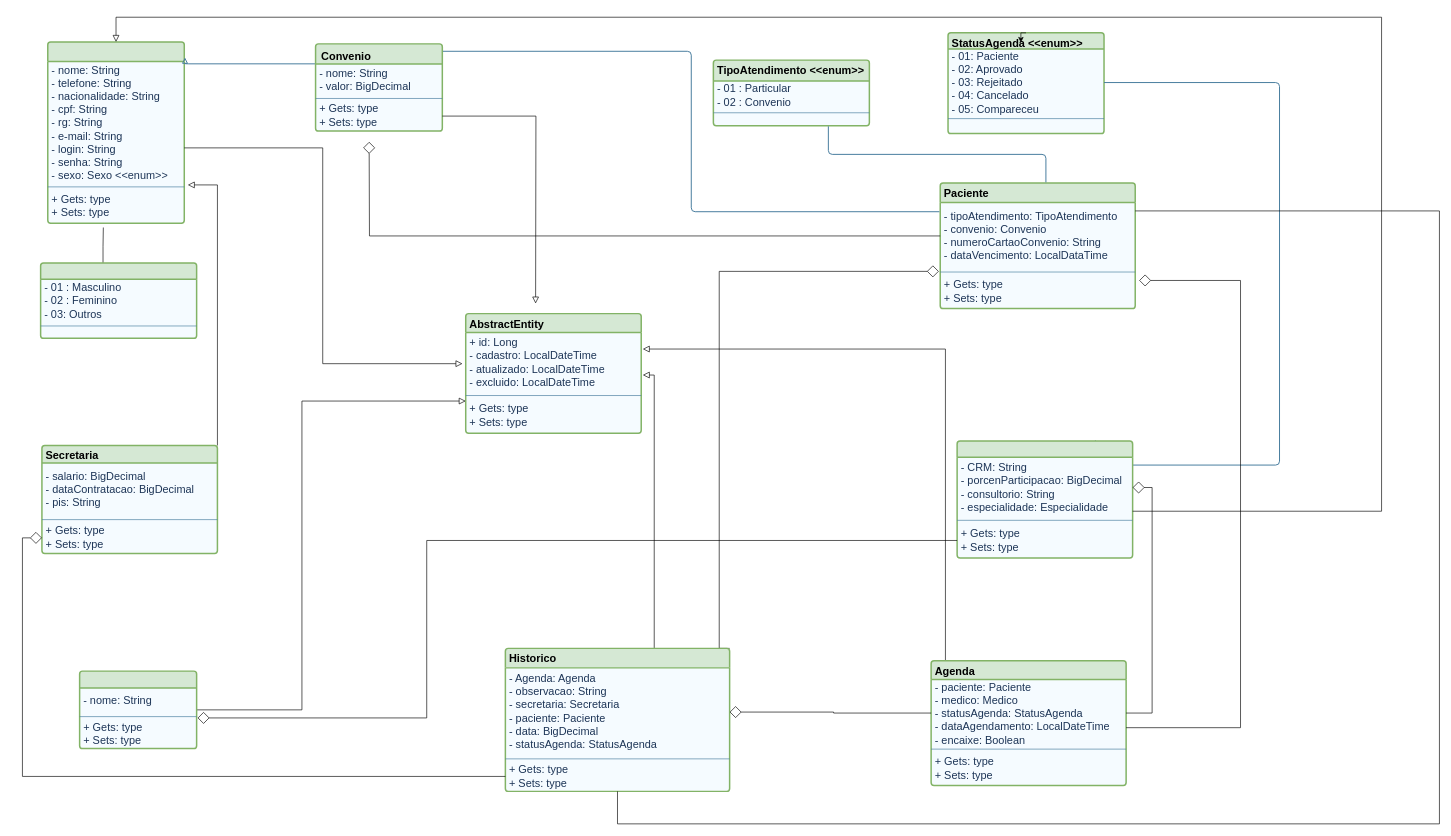
This 1451x836 diagram has some shape labels left out. Here are the shapes that lost their labels. From the top down, the box of each, then its label:
(47, 41, 185, 224): Pessoa
(40, 262, 197, 339): Sexo <<enum>>
(956, 440, 1133, 558): Medico
(79, 670, 197, 749): Especialidades
